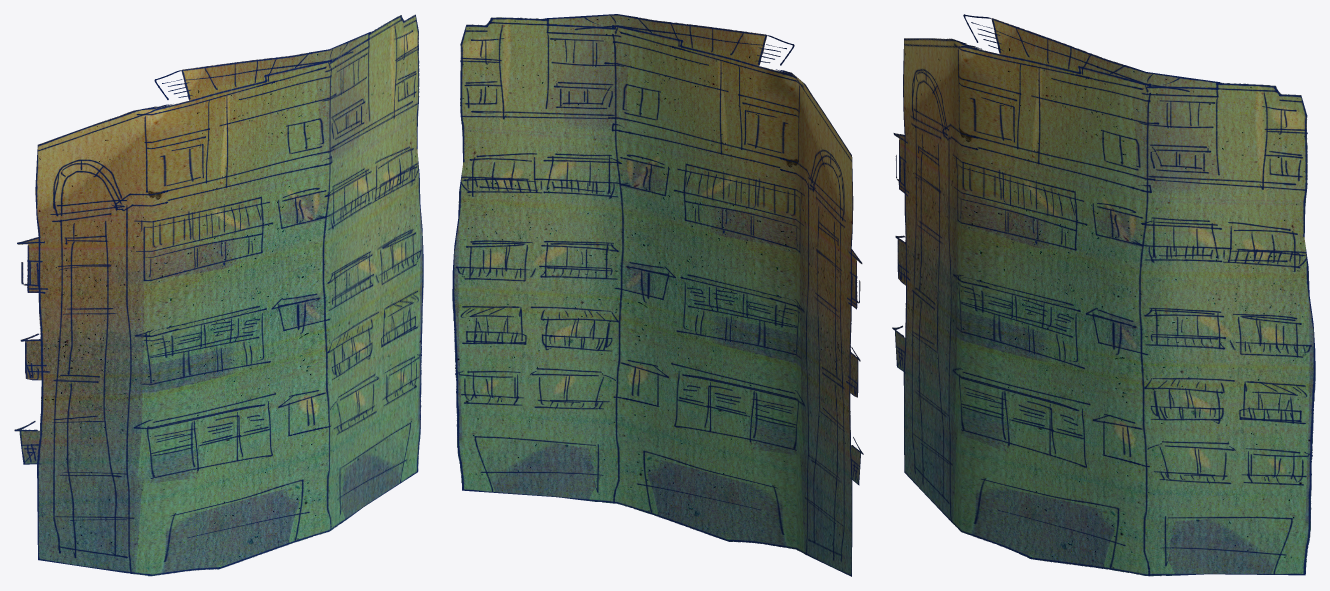
Rendered from 02_mid_bld_01.fbx.
The picture shows the model from 3 angles, left to right: view 1: azimuth 30°, elevation 25°; view 2: azimuth 150°, elevation 25°; view 3: azimuth 330°, elevation 25°; orthographic projection. The views are drawn at different scales.
Parts seen in each view (by area): view 1: 02_中_房子_01; view 2: 02_中_房子_01; view 3: 02_中_房子_01.
Part boxes in pixels (box(x1,y1,x2,y2)): 02_中_房子_01: box(14, 14, 423, 576); 02_中_房子_01: box(452, 14, 863, 576); 02_中_房子_01: box(892, 14, 1315, 576).
Size of the model in its own units: 75.06 by 89.69 by 11.52.
1 material, 1 textured.
